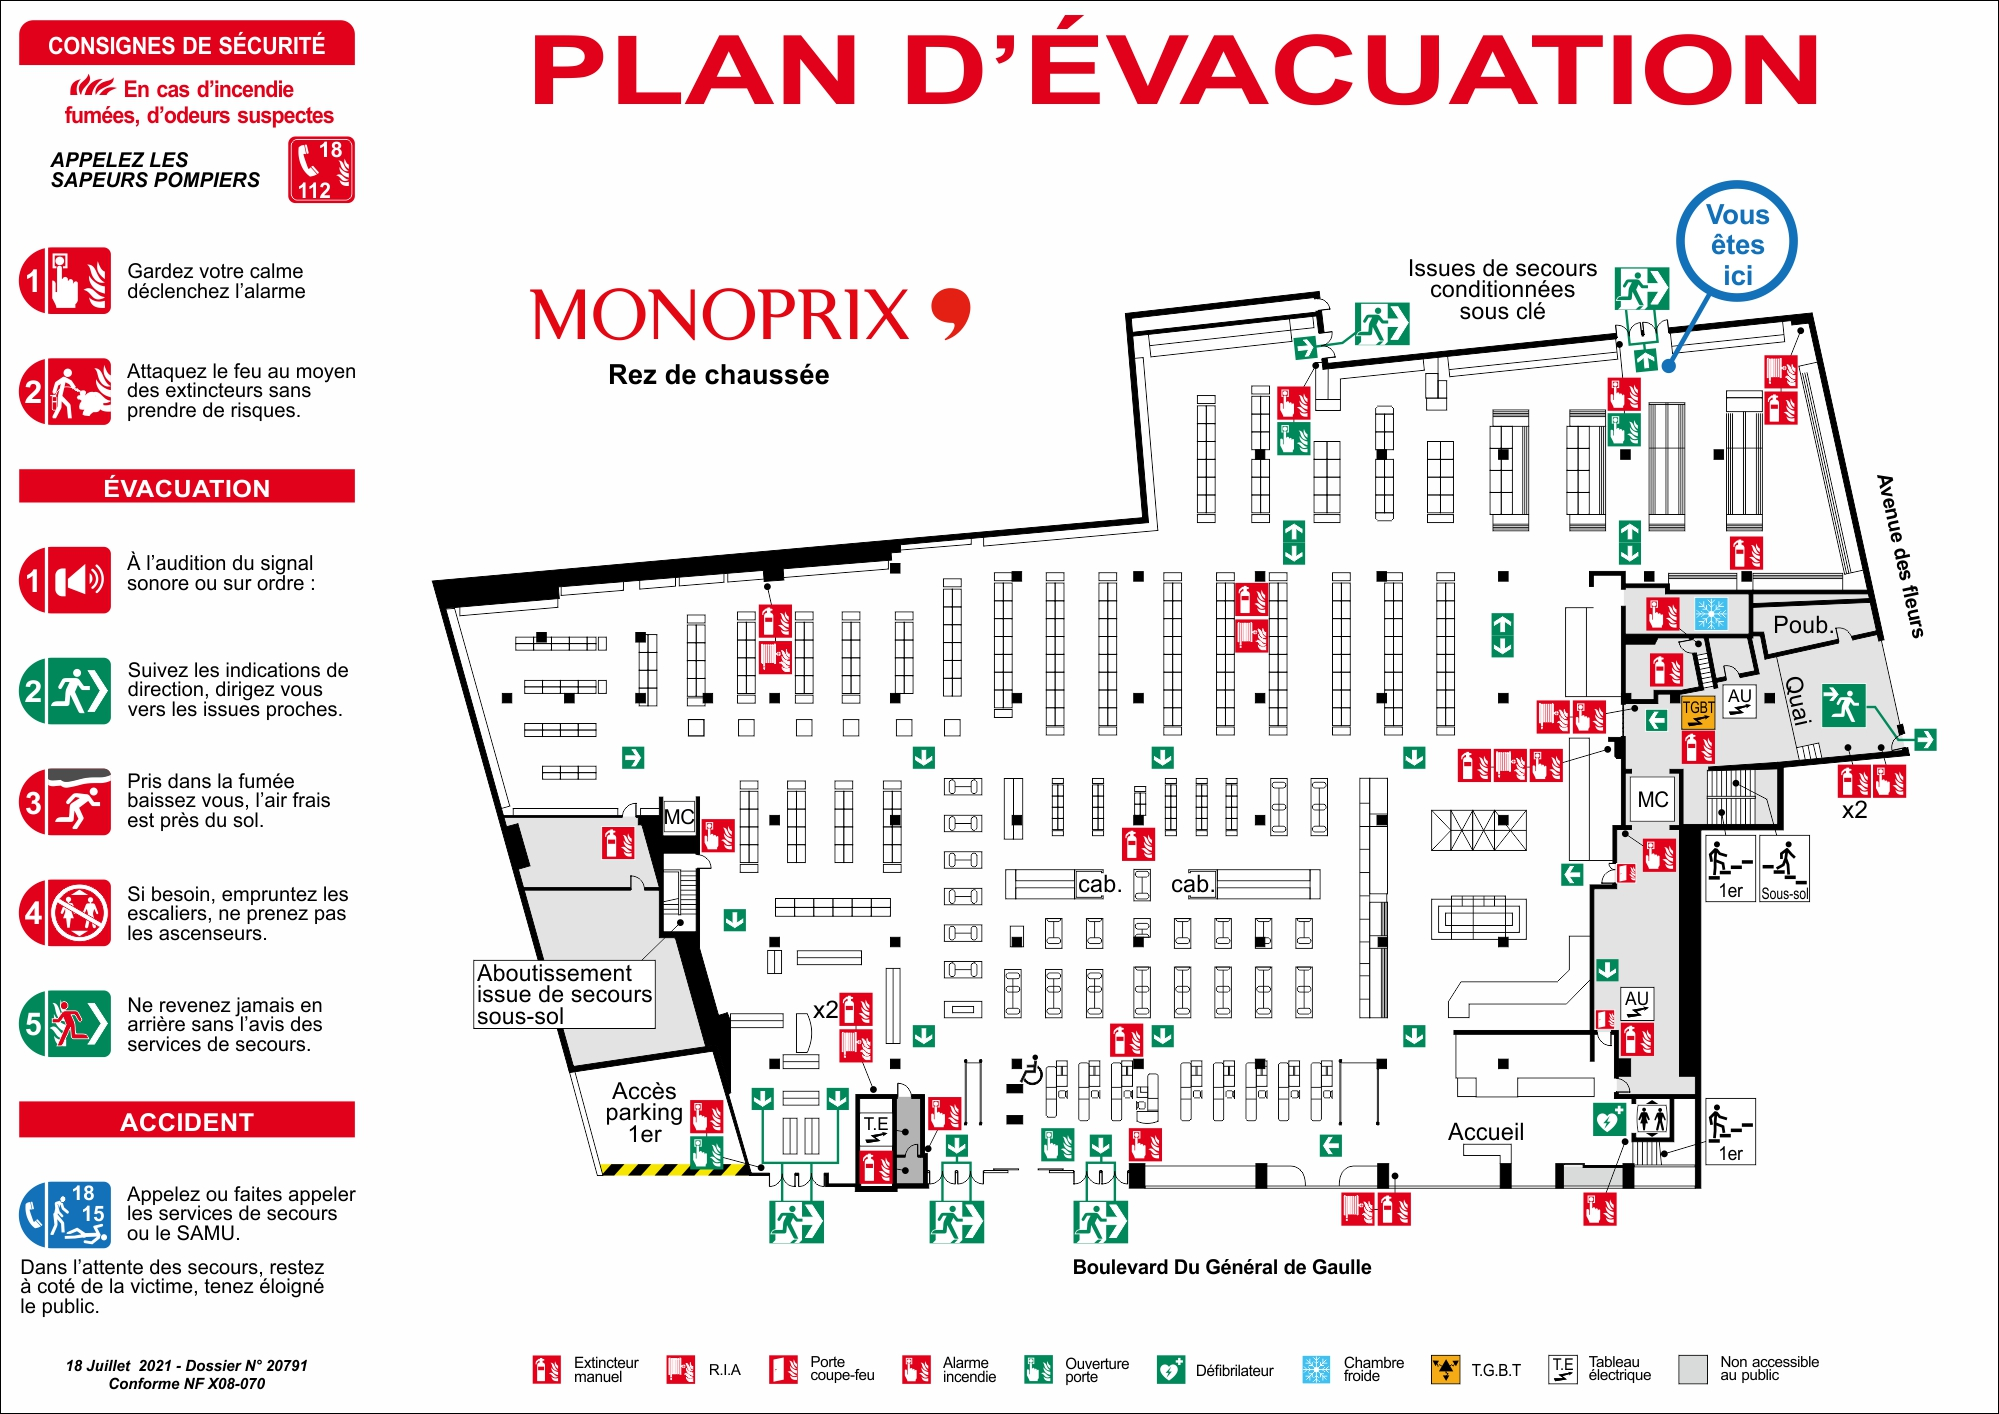exit: (1071, 1201, 1111, 1247), (771, 1200, 808, 1246), (1616, 266, 1648, 312), (1361, 305, 1394, 347), (937, 1204, 967, 1243)
extincteur: (1616, 1022, 1659, 1064), (836, 989, 876, 1028), (598, 823, 638, 862), (1108, 1022, 1143, 1064), (528, 1353, 569, 1386), (1232, 582, 1273, 614), (1122, 826, 1156, 865), (759, 606, 794, 641), (859, 1157, 894, 1192), (1375, 1194, 1414, 1224), (1837, 765, 1869, 802), (1653, 655, 1685, 690), (1462, 751, 1495, 784), (1766, 390, 1798, 422), (1730, 537, 1763, 568), (1685, 733, 1716, 764)
incendie: (1638, 831, 1678, 872), (1606, 376, 1644, 415), (1277, 386, 1316, 421), (1581, 1188, 1618, 1224), (1130, 1126, 1166, 1163), (1573, 695, 1609, 733), (1645, 595, 1681, 630), (689, 1102, 724, 1137), (931, 1096, 963, 1132), (1534, 745, 1564, 782), (703, 819, 736, 851), (902, 1353, 932, 1386), (1880, 765, 1909, 796)
tuyau incendie: (755, 640, 796, 679), (1237, 617, 1273, 653), (837, 1028, 876, 1064), (1342, 1191, 1378, 1229), (1763, 355, 1798, 392), (1537, 705, 1570, 741), (1498, 747, 1531, 780)
